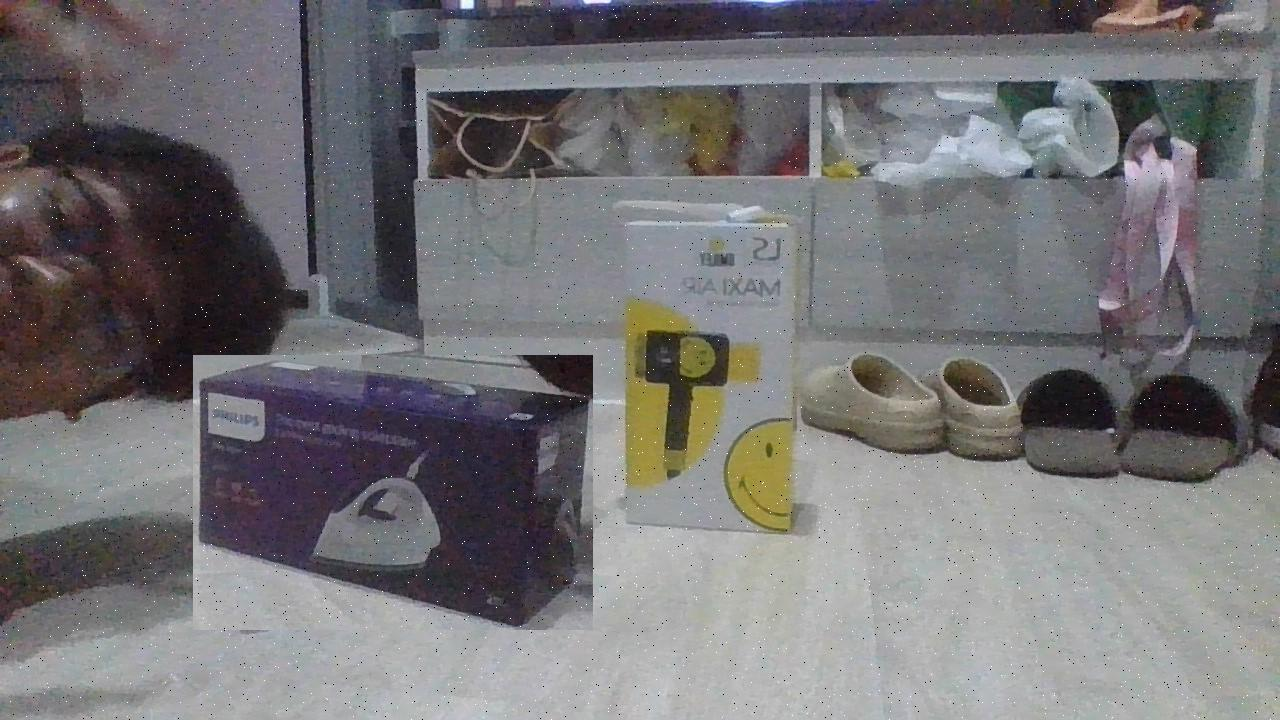Dryer: (612, 197, 804, 536)
IRON: (193, 355, 593, 630)
